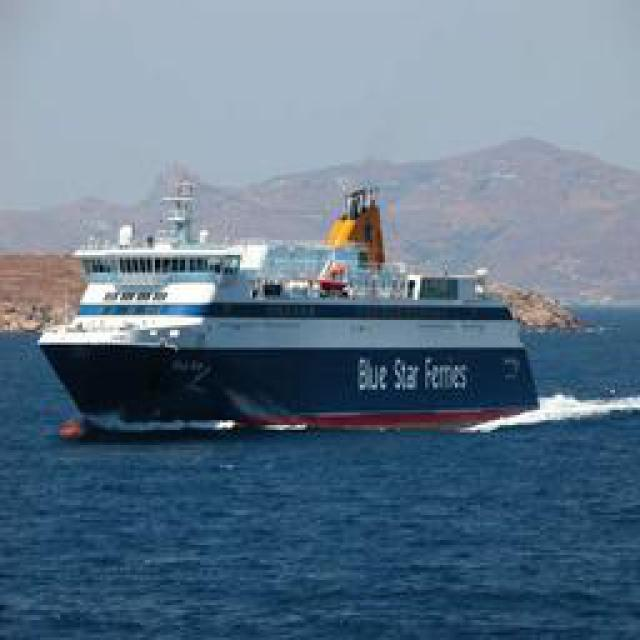Ship: (36, 177, 546, 440)
